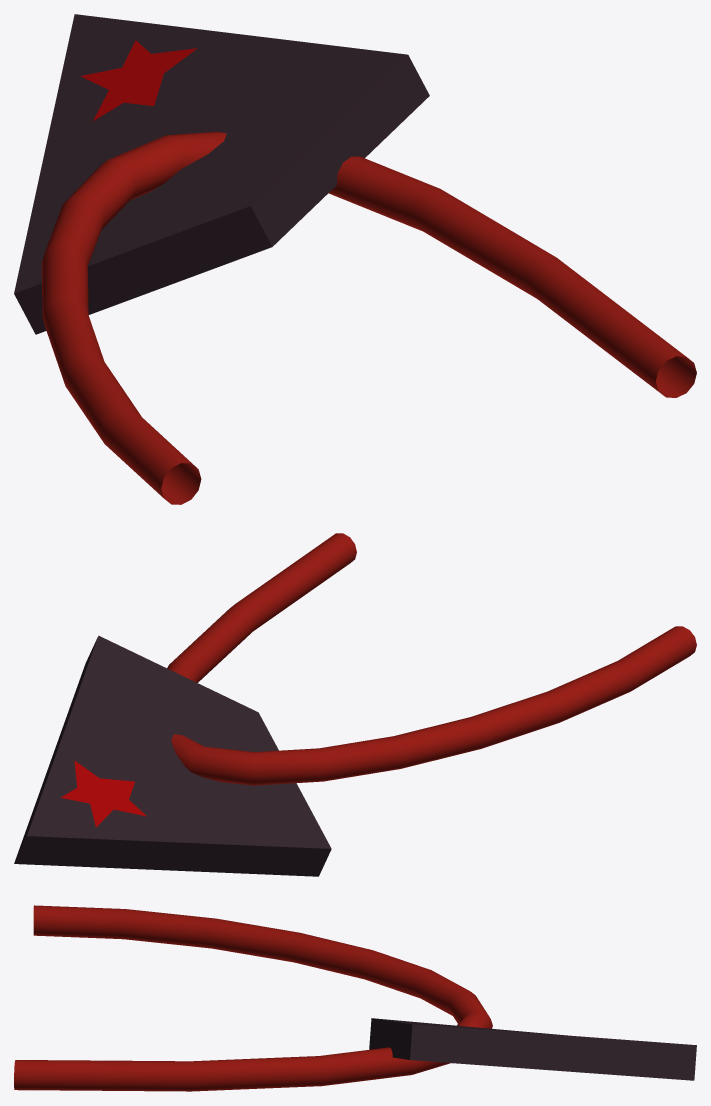
The model's file is amuleto2.fbx.
3 renders of one model, top to bottom at view 1: azimuth 30°, elevation 25°; view 2: azimuth 150°, elevation 25°; view 3: azimuth 270°, elevation 25°, orthographic. The views are drawn at different scales.
Parts seen in each view (by area): view 1: Cylinder, BézierCurve; view 2: Cylinder, BézierCurve; view 3: BézierCurve, Cylinder.
Boxes of the visible parts, left/top/right/bottom form: Cylinder: left=14, top=14, right=429, bottom=334; BézierCurve: left=41, top=131, right=696, bottom=504; Cylinder: left=14, top=635, right=331, bottom=876; BézierCurve: left=167, top=533, right=696, bottom=785; BézierCurve: left=14, top=905, right=492, bottom=1091; Cylinder: left=369, top=1018, right=696, bottom=1080.
Bounding box in the file's own units: 83.27 × 32.08 × 135.
